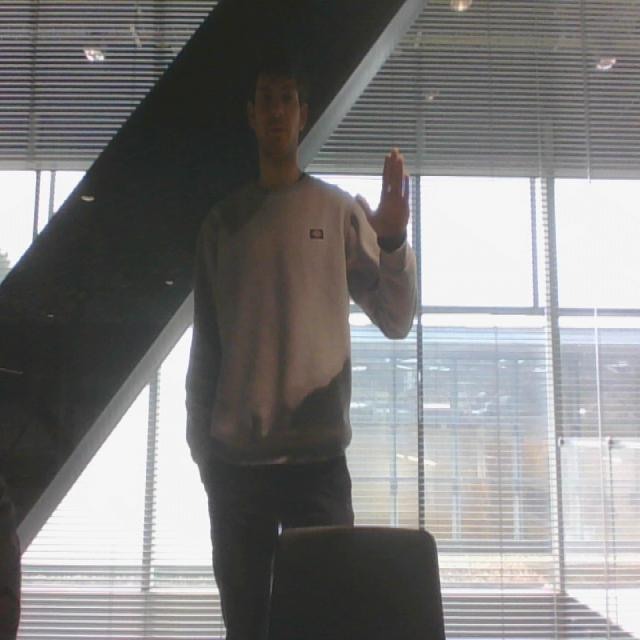backward: (354, 143, 420, 253)
